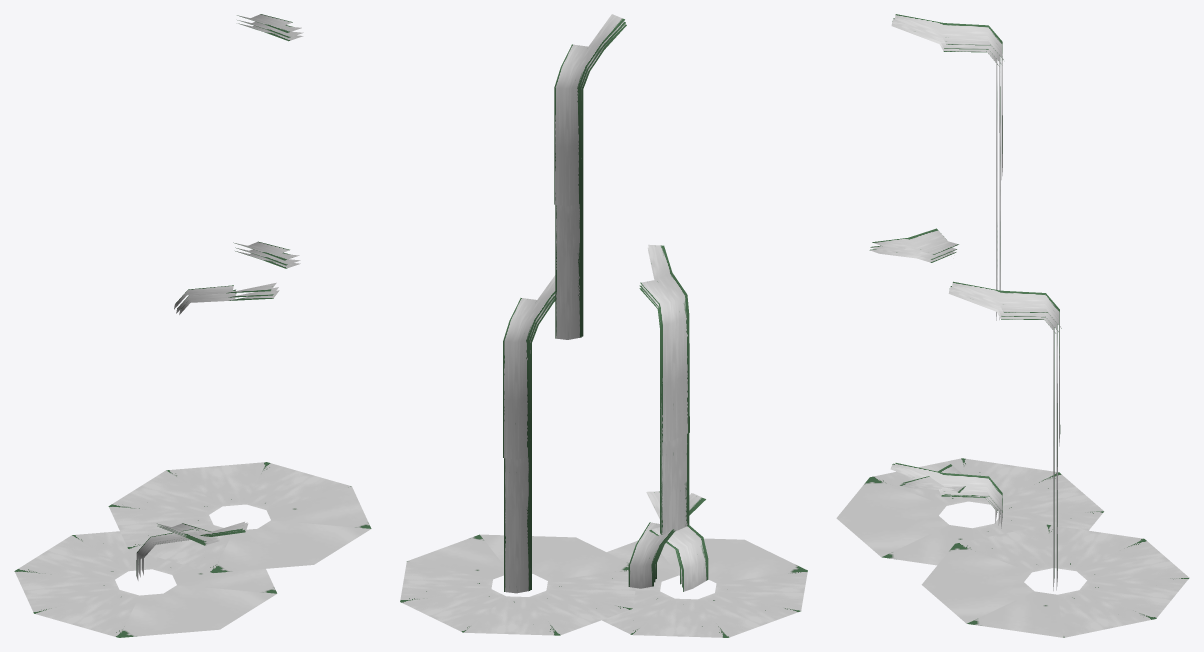
The model's file is waterfall.glb.
3 views of the same model, side by side, from view 1: azimuth 30°, elevation 25°; view 2: azimuth 150°, elevation 25°; view 3: azimuth 270°, elevation 25° (orthographic). The views are drawn at different scales.
Parts seen in each view (by area): view 1: stktex_waterfall_a.png__; view 2: stktex_waterfall_a.png__; view 3: stktex_waterfall_a.png__.
Boxes of the visible parts, left/top/right/bottom form: stktex_waterfall_a.png__: left=14, top=14, right=371, bottom=637; stktex_waterfall_a.png__: left=400, top=14, right=807, bottom=637; stktex_waterfall_a.png__: left=836, top=14, right=1189, bottom=637.
Bounding box in the file's own units: 97.3 × 142 × 80.69.
1 material, 1 textured.
